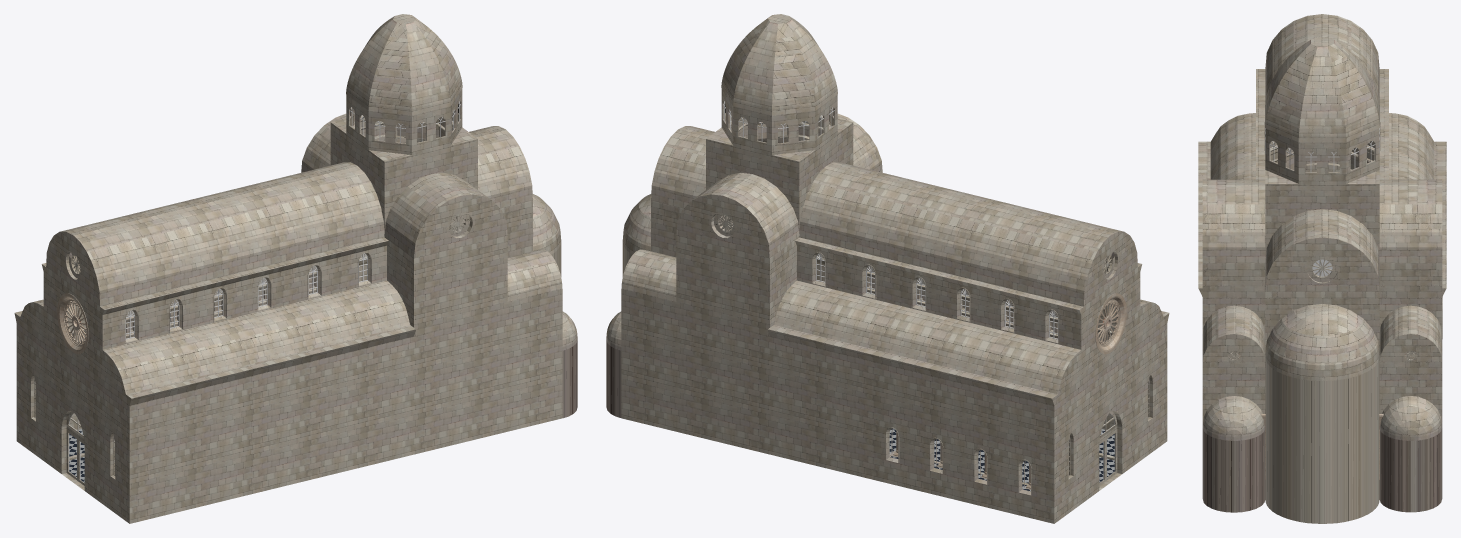
Rendered from sibenik.glb.
3 renders of one model, left to right at view 1: azimuth 30°, elevation 25°; view 2: azimuth 150°, elevation 25°; view 3: azimuth 270°, elevation 25°, orthographic. The views are drawn at different scales.
Parts seen in each view (by area): view 1: zid_vani, kamen_zid, sprljci, rozeta; view 2: zid_vani, kamen_zid, sprljci, rozeta, pod; view 3: zid_vani, kamen_zid, sprljci.
Boxes of the visible parts, x1,y1,x2,y2 form: zid_vani: (14,14,577,523); kamen_zid: (34,16,465,475); sprljci: (34,101,460,482); rozeta: (57,293,88,354); zid_vani: (606,14,1169,523); kamen_zid: (718,16,1149,475); sprljci: (723,101,1149,482); rozeta: (1095,293,1126,354); pod: (889,428,1114,491); zid_vani: (1198,14,1446,523); kamen_zid: (1227,40,1417,361); sprljci: (1265,128,1379,276).
Size of the model in its own units: 40.28 by 30.61 by 16.99.
7 materials, 3 textured.
